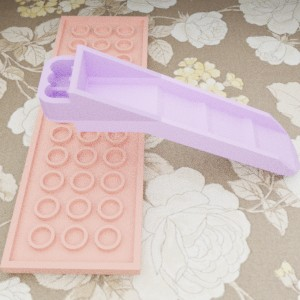lego: (0, 15, 148, 275), (37, 44, 300, 175)
